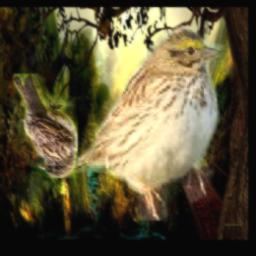Sparrow: (58, 23, 226, 221), (13, 74, 77, 179)
